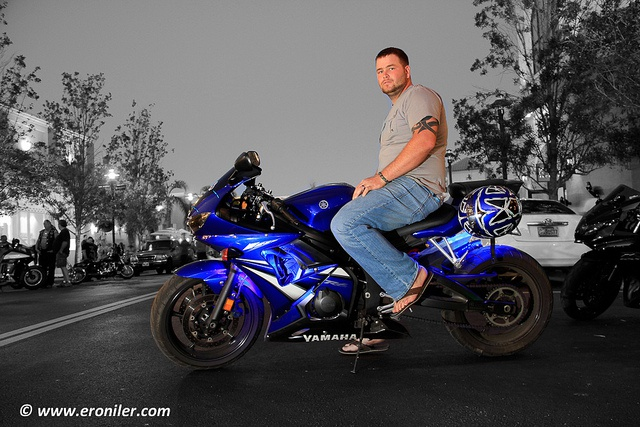non-vehicle: (150, 150, 553, 373), (559, 181, 639, 318), (67, 242, 135, 284), (0, 249, 45, 290)
